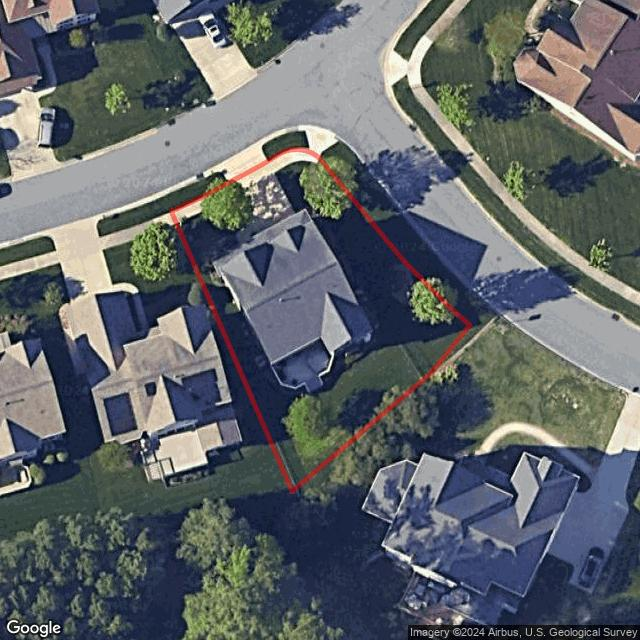Driveway: (227, 160, 295, 235)
Extra-Driveway: (220, 145, 268, 180)
Extra-Lawn: (318, 141, 493, 325), (167, 172, 227, 208), (262, 131, 310, 159)
Extra-Sidewalk: (305, 131, 339, 159)
House: (212, 207, 377, 363)
Lawn: (172, 149, 470, 491)
Other: (271, 339, 335, 393), (204, 232, 241, 288)
Sidewalk: (172, 184, 234, 222), (269, 148, 320, 173), (235, 226, 254, 247)
